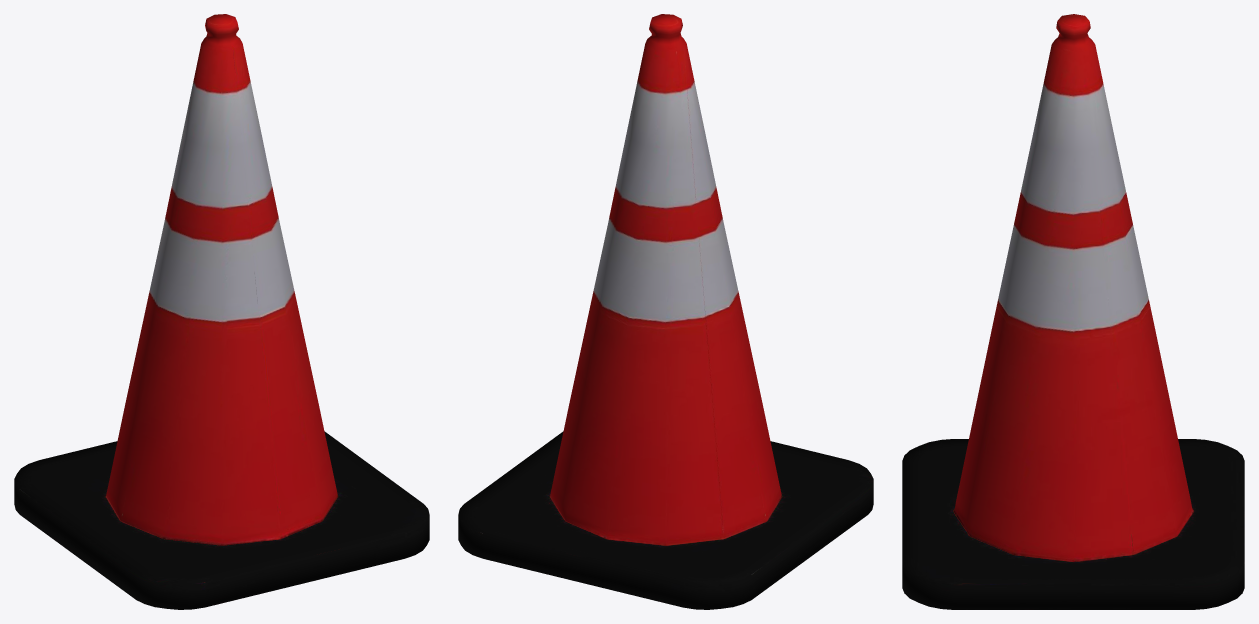
File: selected.fbx
The picture shows the model from 3 angles, left to right: view 1: azimuth 30°, elevation 25°; view 2: azimuth 150°, elevation 25°; view 3: azimuth 270°, elevation 25°; orthographic projection. The views are drawn at different scales.
Visible parts, largest first — view 1: tripo_node_c2d367c8-ffea-4d0a-8946-a186c22157f8; view 2: tripo_node_c2d367c8-ffea-4d0a-8946-a186c22157f8; view 3: tripo_node_c2d367c8-ffea-4d0a-8946-a186c22157f8.
Boxes of the visible parts, x1,y1,x2,y2 form: tripo_node_c2d367c8-ffea-4d0a-8946-a186c22157f8: (14,14,429,609); tripo_node_c2d367c8-ffea-4d0a-8946-a186c22157f8: (458,14,873,609); tripo_node_c2d367c8-ffea-4d0a-8946-a186c22157f8: (902,14,1244,609).
Bounding box in the file's own units: 60.08 × 100 × 60.08.
Materials: 1 (1 with a texture image).
